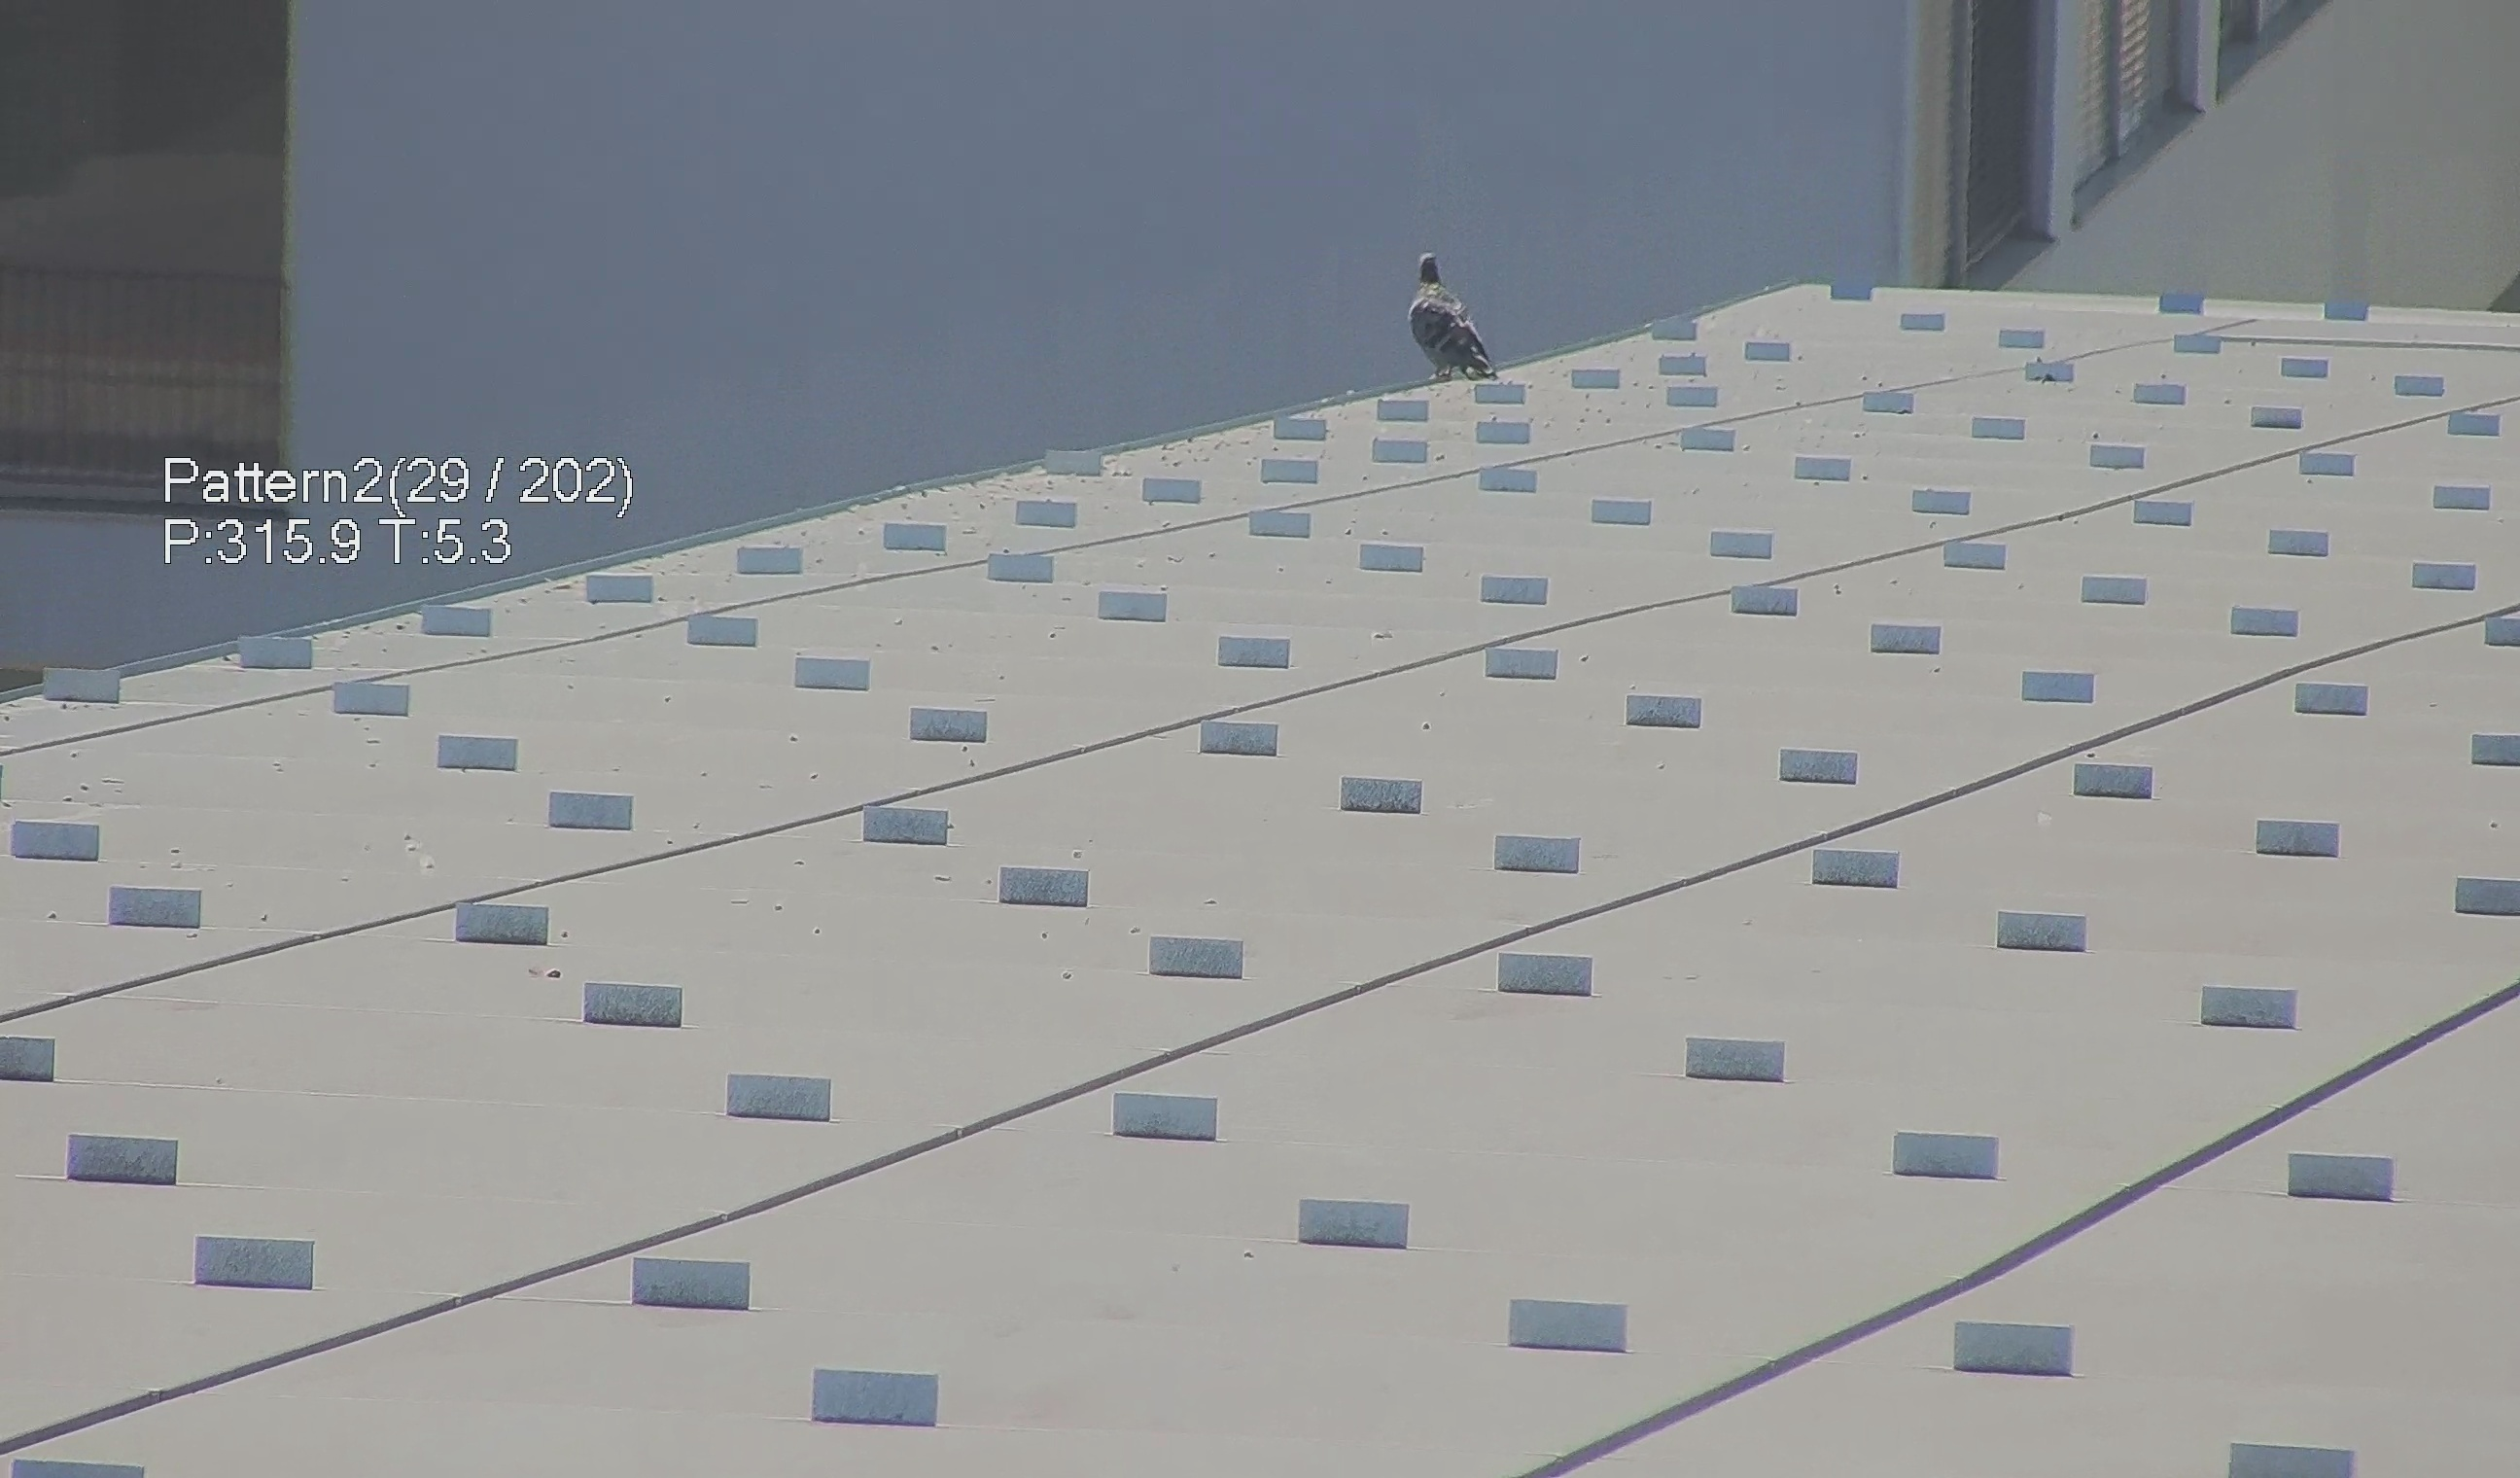Pigeon: (1393, 238, 1507, 396)
